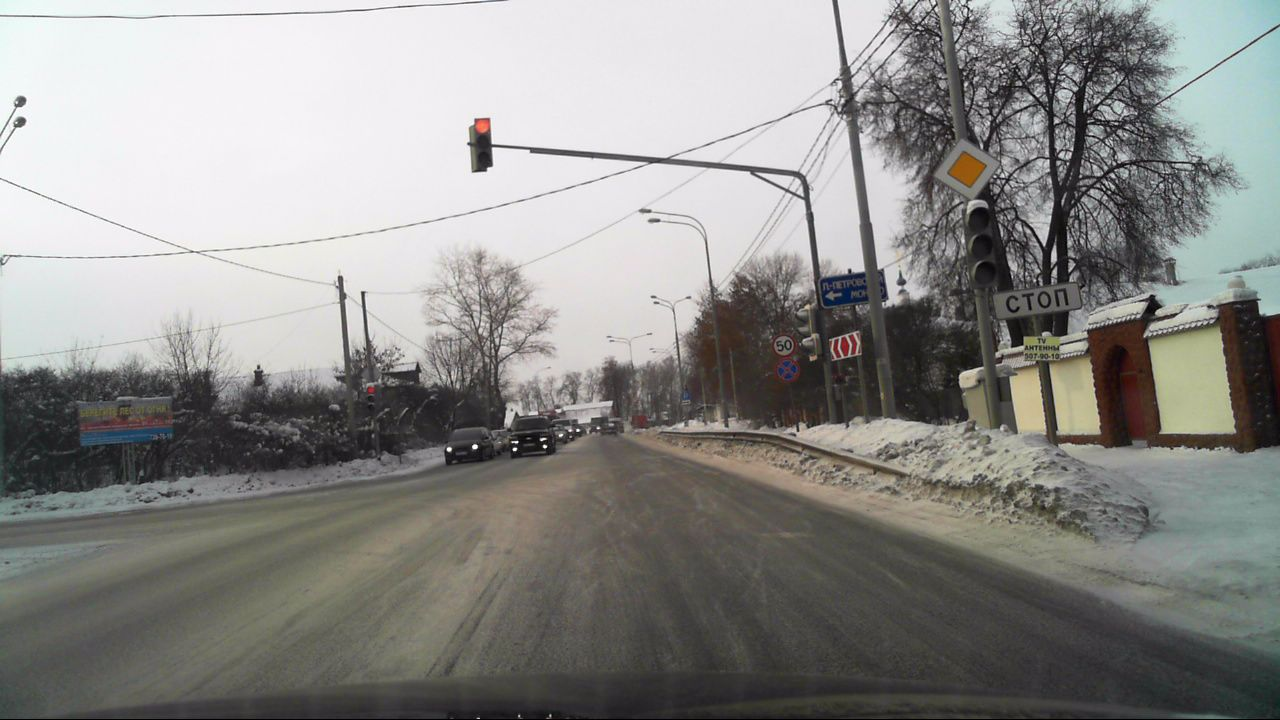No Parking: (775, 358, 798, 381)
